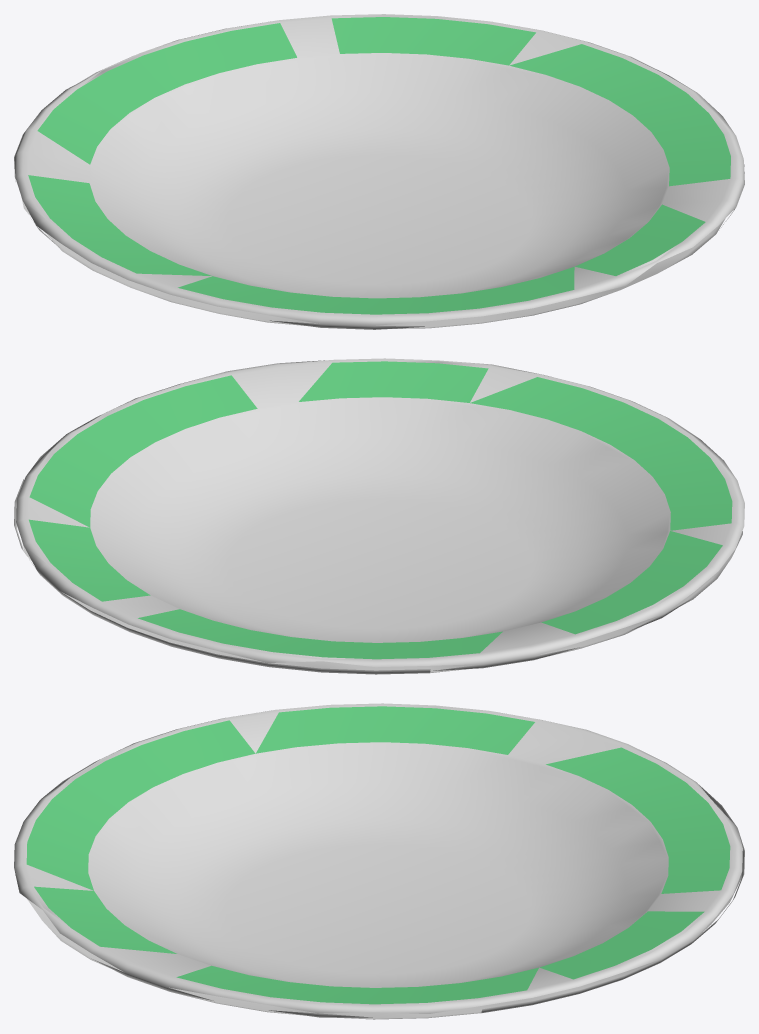
Rendered from J_PlateB_LOD1.obj.
3 views of the same model, one above another, from view 1: azimuth 30°, elevation 25°; view 2: azimuth 150°, elevation 25°; view 3: azimuth 270°, elevation 25° (orthographic).
Visible parts, largest first — view 1: J_PlateB_m0, J_PlateB_m1; view 2: J_PlateB_m0, J_PlateB_m1; view 3: J_PlateB_m0, J_PlateB_m1.
Boxes of the visible parts, x1,y1,x2,y2 form: J_PlateB_m0: (14,14,744,329); J_PlateB_m1: (28,17,730,314); J_PlateB_m0: (14,358,744,674); J_PlateB_m1: (29,361,732,659); J_PlateB_m0: (14,703,744,1019); J_PlateB_m1: (26,706,730,1004).
Size of the model in its own units: 0.2533 by 0.0292 by 0.2533.
